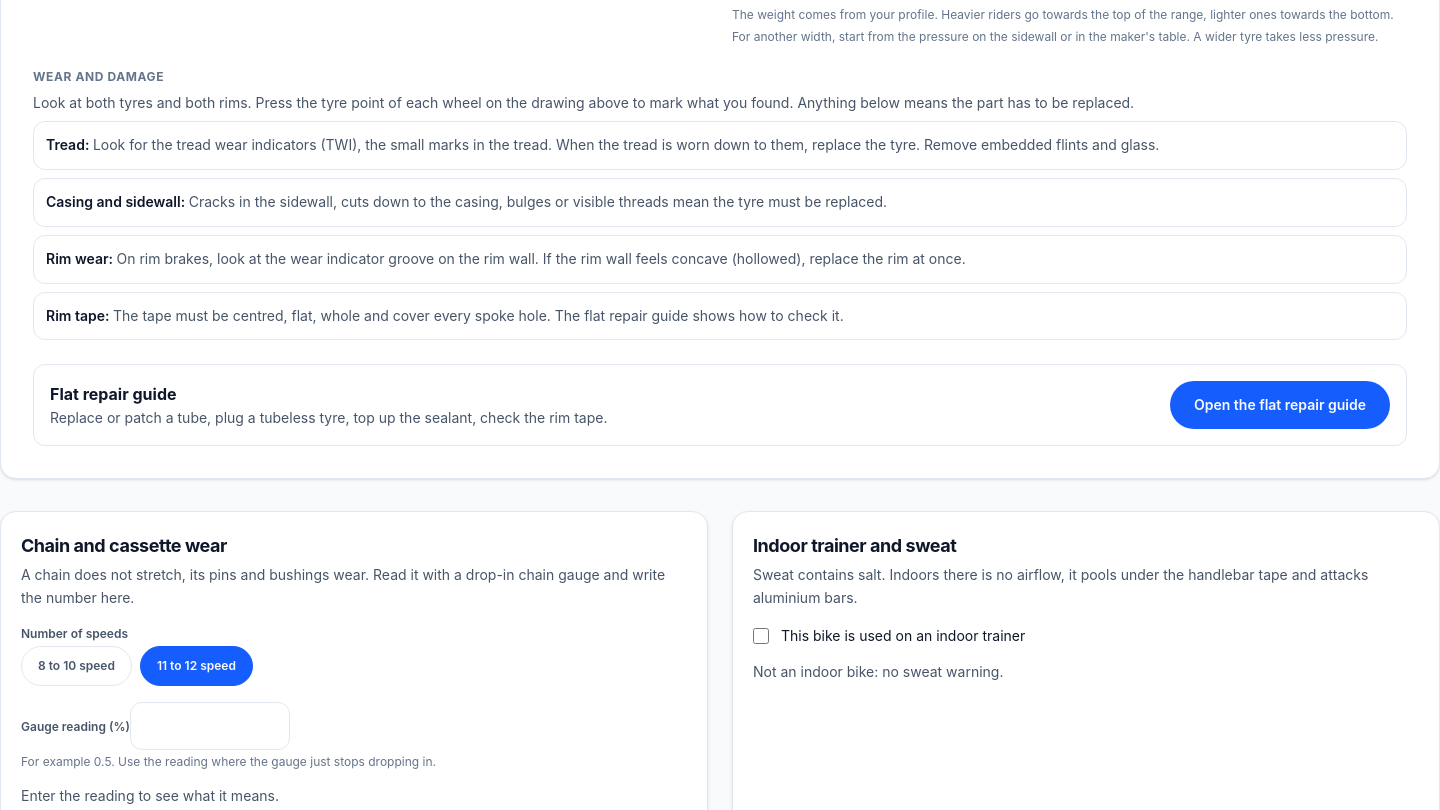
Test: the wheels and tyres card (en) › the flat repair guide › should list the five jobs in order and come back to the card
(page scrolled)
What coordinates should you click on to do the following:
click the button with test id "flat-open"
I would click on:
 (1280, 405)
Its box is [1170, 381, 1390, 429].
(page scrolled)
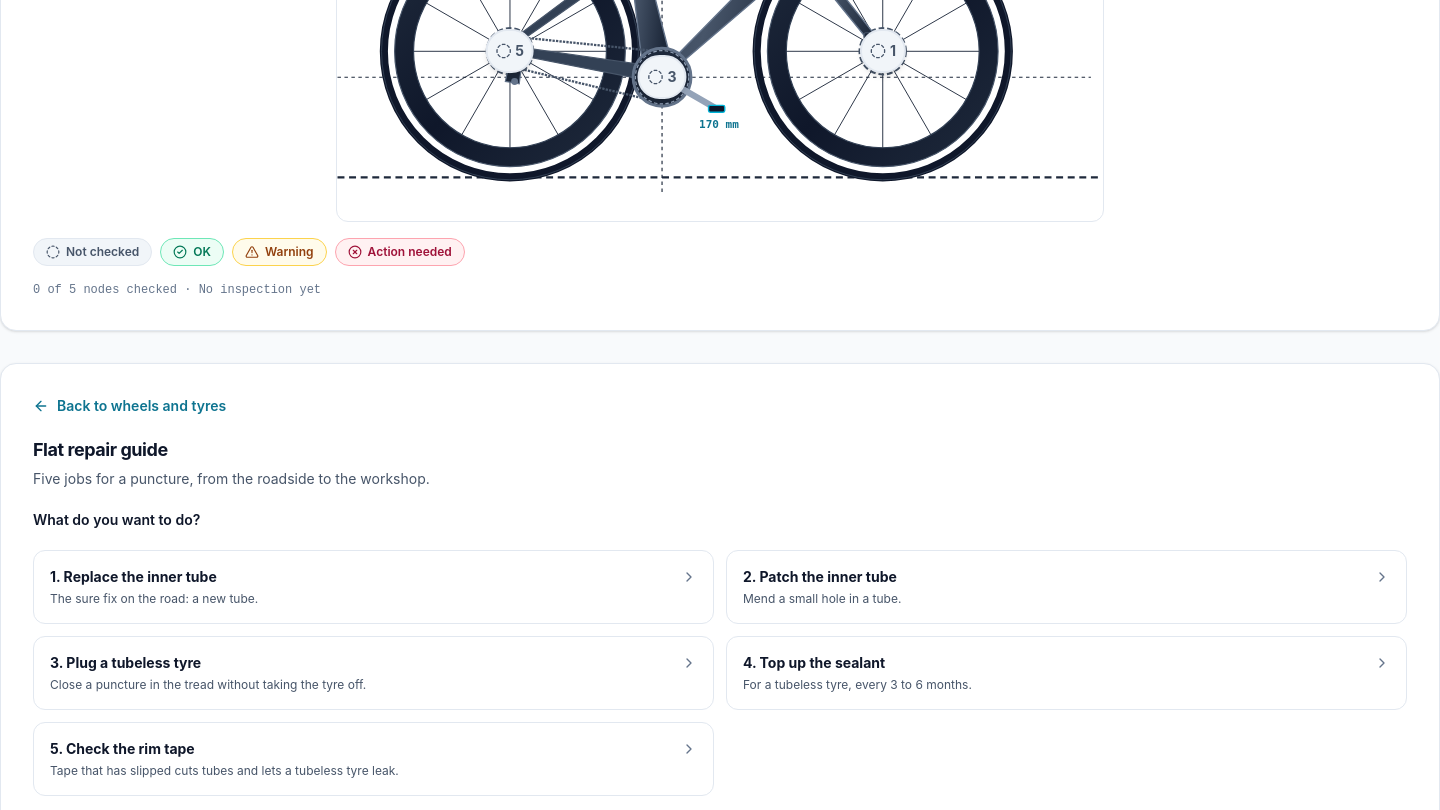
What coordinates should you click on to do the following:
click the button with test id "flat-close"
I would click on:
 (130, 406)
Its box is [33, 396, 226, 416].
(page scrolled)
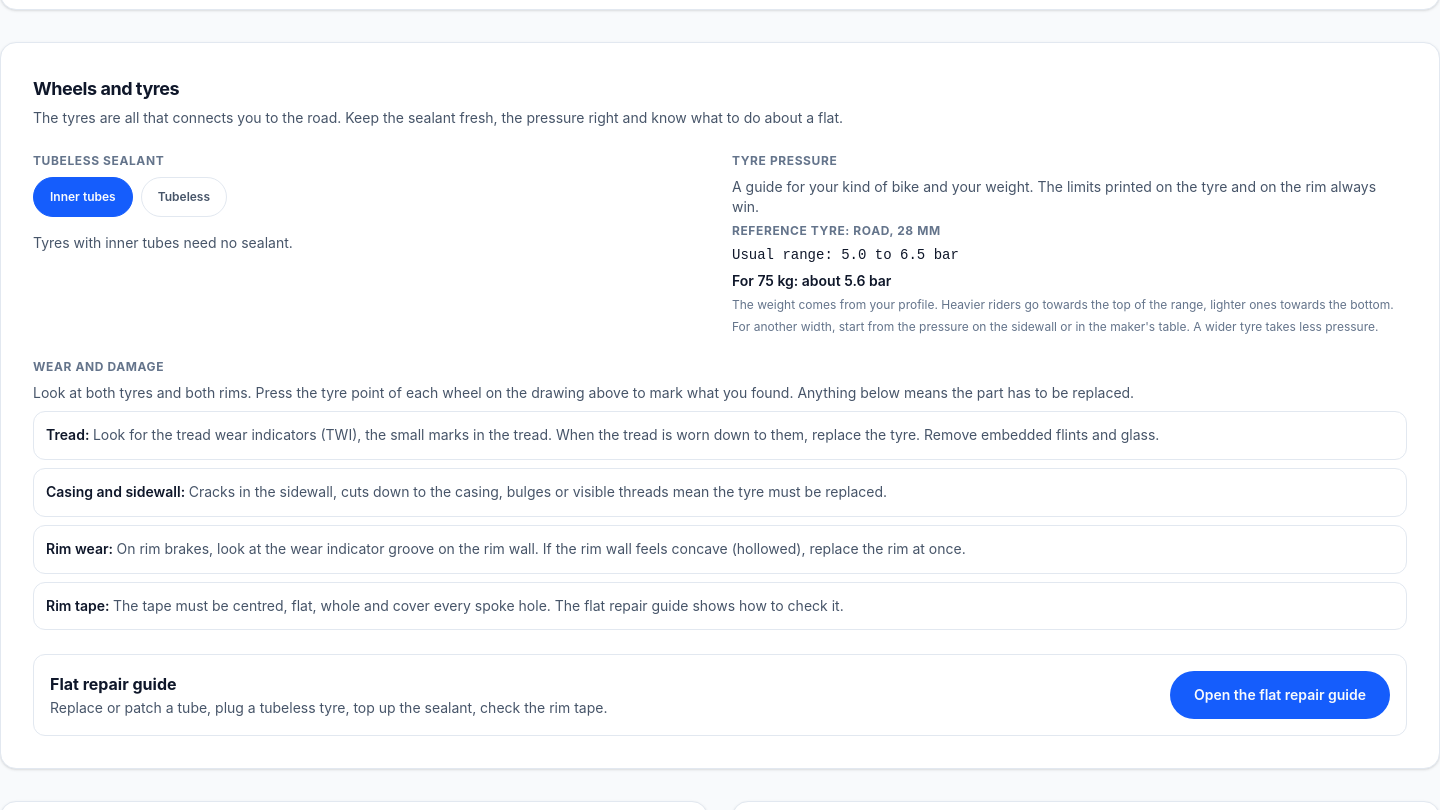
Expected: the element with test id "wheels-card" is shown
